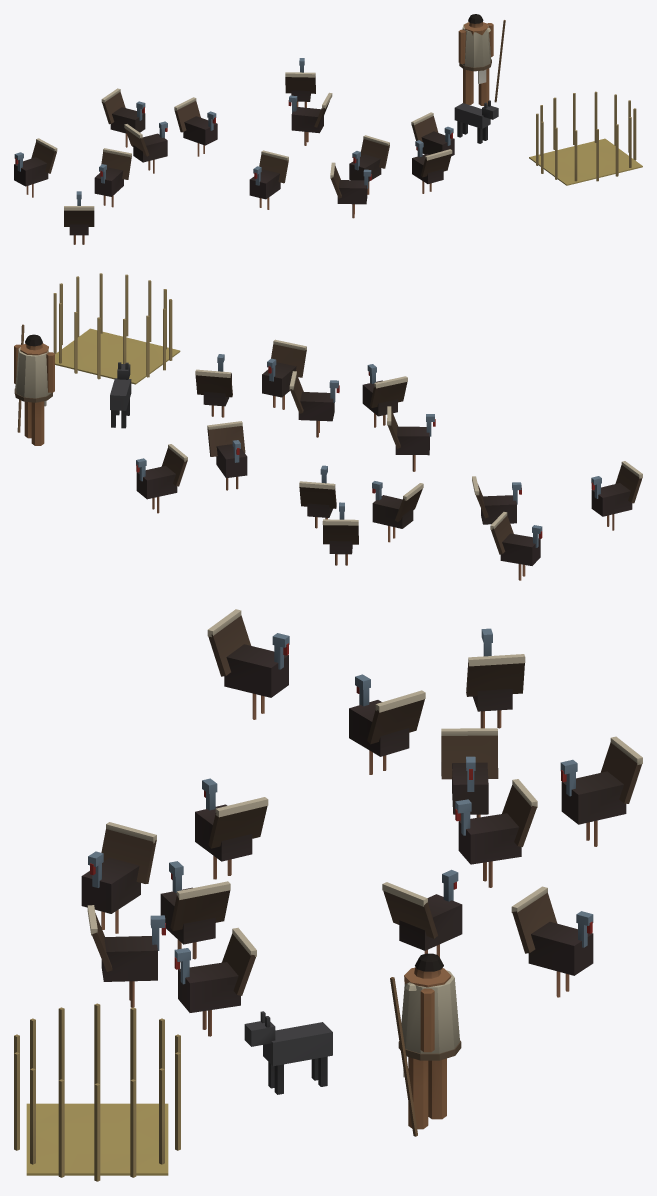
File: shepherd.glb
3 views of the same model, one above another, from view 1: azimuth 30°, elevation 25°; view 2: azimuth 150°, elevation 25°; view 3: azimuth 270°, elevation 25° (orthographic). The views are drawn at different scales.
Parts seen in each view (by area): view 1: anim_graze, base; view 2: anim_graze, base; view 3: anim_graze, base.
Boxes of the visible parts, x1,y1,x2,y2 form: anim_graze: (14,58,454,244); base: (454,14,642,185); anim_graze: (136,339,642,580); base: (14,273,180,445); anim_graze: (81,609,642,1036); base: (14,953,461,1181).
Size of the model in its own units: 9.73 by 1.56 by 5.33.
